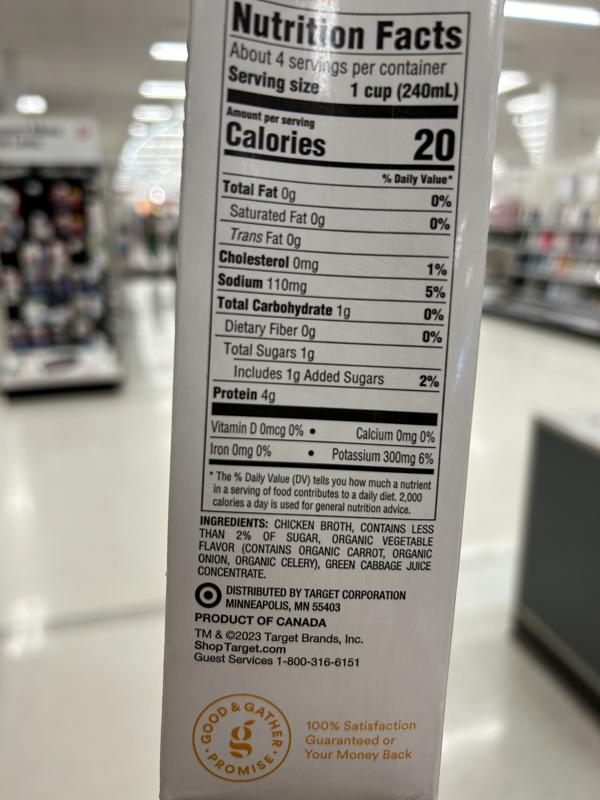ingredients: (195, 514, 436, 580)
